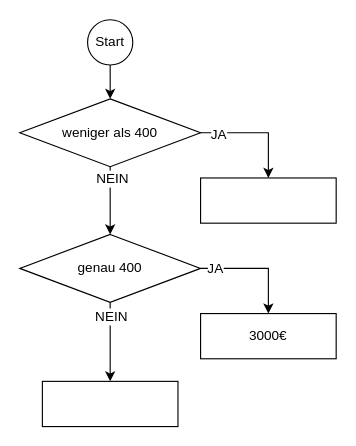
Image size: 356x446. Some labels were removed from this diagram. The centre of each missing label's shape, as x and y in pixels:
"x * 10€" belongs at [267,200].
"x * 8€" belongs at [109,403].
